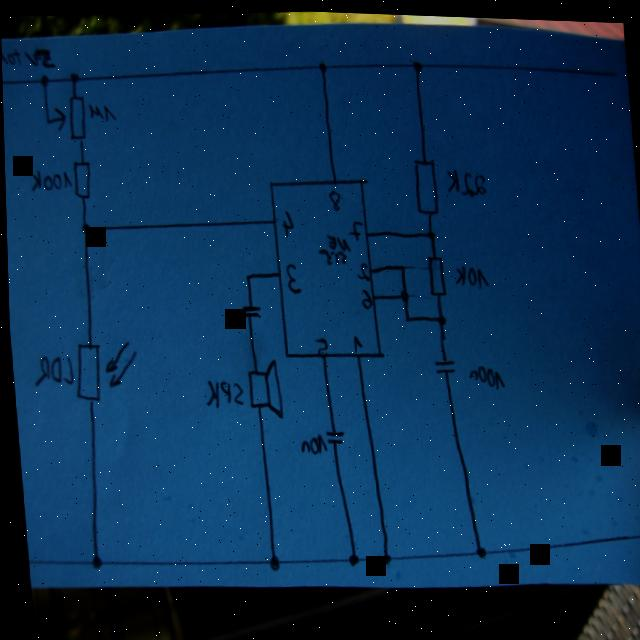capacitor: (432, 353, 456, 375), (238, 301, 261, 319), (323, 426, 344, 444)
junction: (265, 551, 278, 570), (471, 541, 485, 557), (87, 553, 100, 570), (412, 55, 425, 71), (345, 550, 358, 565), (317, 57, 329, 73), (378, 549, 390, 562), (69, 70, 81, 83), (398, 286, 409, 299), (435, 310, 446, 323), (80, 221, 91, 234), (40, 73, 51, 86), (425, 226, 436, 238), (241, 269, 251, 281), (402, 311, 412, 321), (396, 259, 405, 269)
resistor: (70, 337, 138, 404), (42, 92, 89, 144), (411, 153, 441, 214), (71, 158, 93, 201), (426, 251, 447, 295)
terminal: (609, 65, 620, 76), (25, 555, 32, 567), (635, 526, 640, 537)
text: (1, 45, 58, 73), (29, 353, 73, 388), (444, 163, 488, 196), (202, 376, 244, 409), (315, 230, 352, 265), (29, 167, 72, 194), (467, 359, 504, 388), (452, 260, 488, 287), (297, 430, 326, 453), (88, 101, 117, 123), (283, 259, 301, 293), (280, 206, 295, 237), (348, 216, 363, 240), (355, 258, 370, 280), (313, 334, 328, 356), (328, 186, 342, 209), (359, 285, 372, 308), (350, 331, 361, 350)
